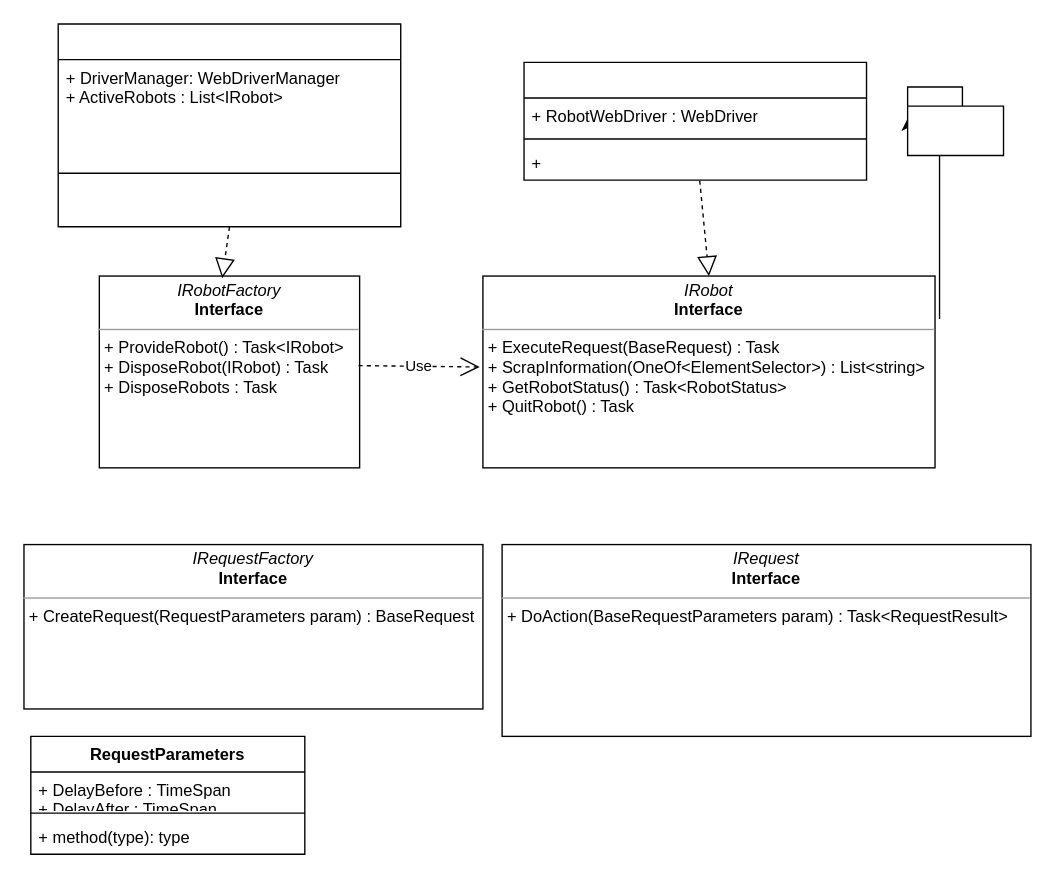
Some shapes in this 1055 by 882 pixel diagram are drawn without their labels. Here are the shapes that lost their labels. From the top down, the box of each, then its label:
(57, 23, 401, 227): RobotFactory
(523, 61, 867, 180): ChromeRPARobot
(906, 86, 1004, 155): IEquatable
